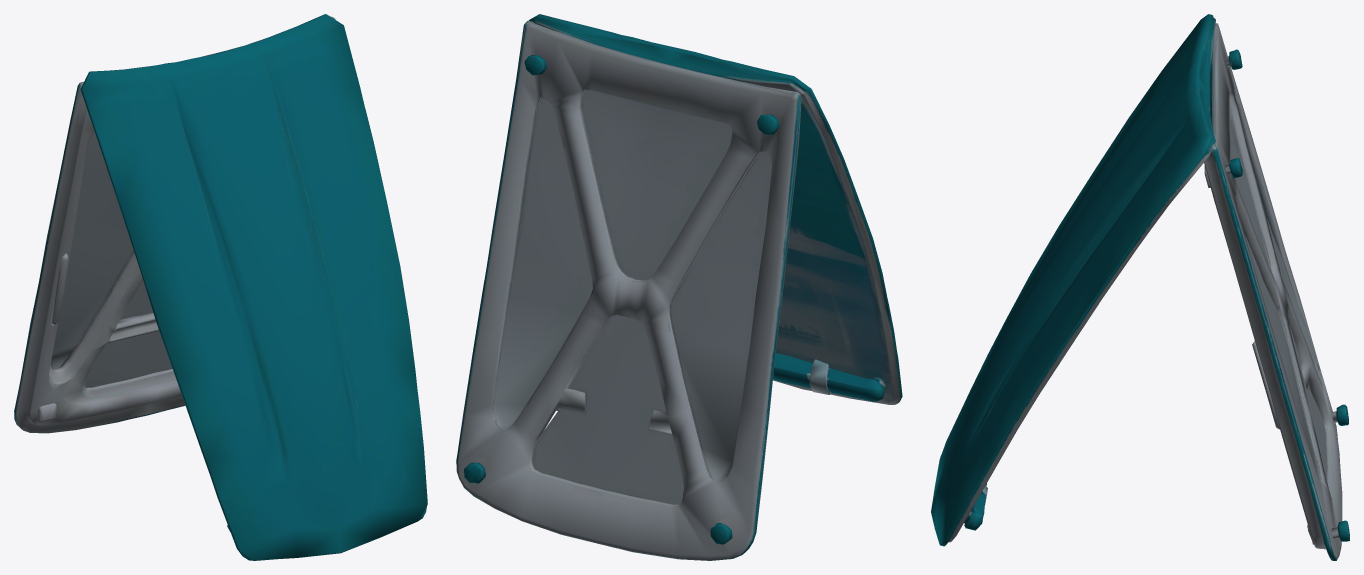
The model's file is optimized_glb.glb.
3 renders of one model, left to right at view 1: azimuth 30°, elevation 25°; view 2: azimuth 150°, elevation 25°; view 3: azimuth 270°, elevation 25°, orthographic. The views are drawn at different scales.
Parts seen in each view (by area): view 1: hood; view 2: hood; view 3: hood.
Boxes of the visible parts, bbox=[...] form: hood: bbox=[14, 14, 427, 560]; hood: bbox=[456, 14, 902, 560]; hood: bbox=[931, 14, 1349, 560].
Bounding box in the file's own units: 0.6934 × 0.998 × 0.8613.
Materials: 1 (1 with a texture image).
